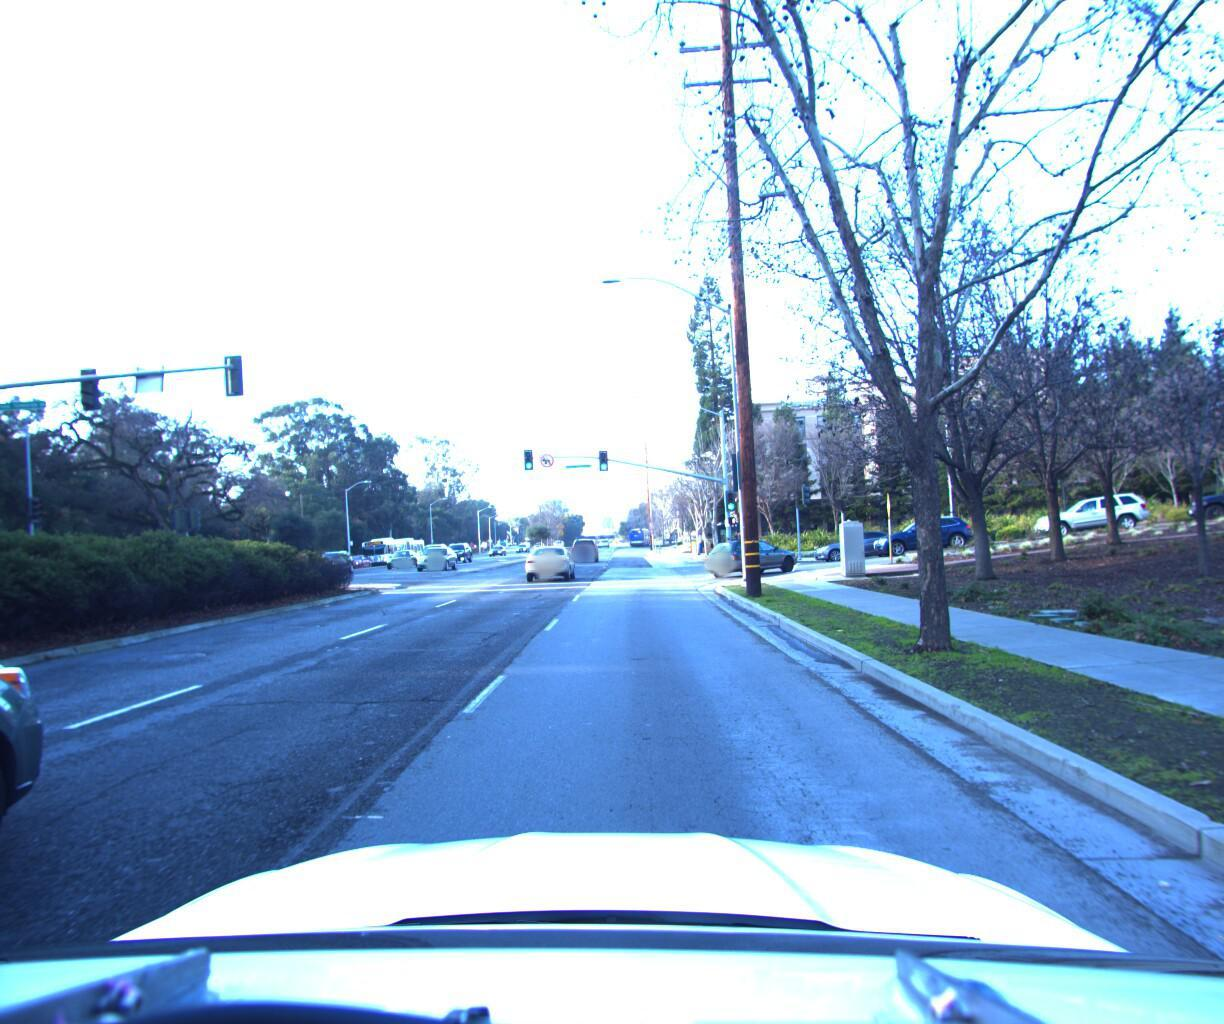car: (1025, 483, 1151, 535), (864, 508, 975, 551), (701, 527, 799, 574), (807, 521, 908, 556), (1171, 466, 1224, 518), (521, 539, 577, 580), (413, 540, 462, 568), (381, 544, 419, 564), (571, 533, 601, 558), (443, 537, 476, 559)
